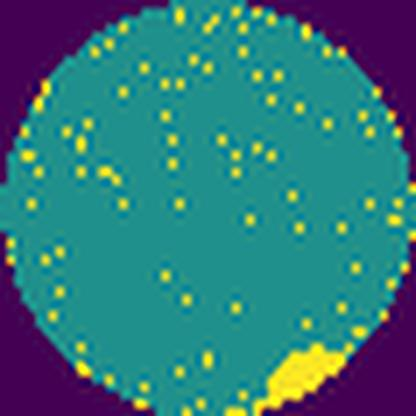Edge-Loc: (204, 317, 407, 416)
